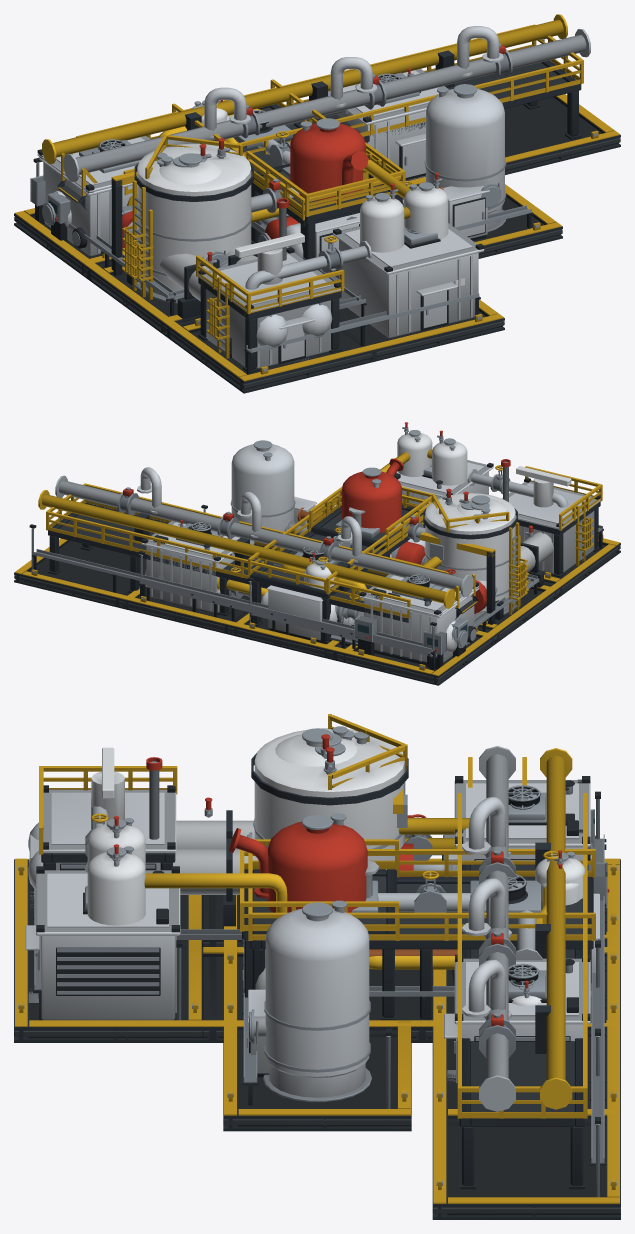
The model's file is pieces.glb.
3 renders of one model, top to bottom at view 1: azimuth 30°, elevation 25°; view 2: azimuth 150°, elevation 25°; view 3: azimuth 270°, elevation 25°, orthographic. The views are drawn at different scales.
Parts seen in each view (by area): view 1: piece_I4, piece_L, piece_J, piece_O, piece_Z, piece_T, piece_S, piece_I3, piece_V; view 2: piece_I4, piece_O, piece_J, piece_L, piece_T, piece_Z, piece_I3, piece_S, piece_V; view 3: piece_I4, piece_Z, piece_L, piece_J, piece_T, piece_O, piece_S, piece_I3, piece_V.
Boxes of the visible parts, box(x1,y1,x2,y2) form: piece_I4: box(26, 14, 620, 273); piece_L: box(15, 171, 504, 393); piece_J: box(172, 159, 496, 388); piece_O: box(14, 102, 359, 335); piece_Z: box(54, 79, 562, 258); piece_T: box(37, 100, 425, 274); piece_S: box(93, 68, 449, 329); piece_I3: box(14, 68, 425, 276); piece_V: box(43, 144, 211, 329); piece_I4: box(14, 467, 491, 683); piece_O: box(232, 488, 557, 683); piece_J: box(232, 422, 616, 658); piece_L: box(343, 460, 620, 685); piece_T: box(138, 458, 494, 661); piece_Z: box(201, 440, 475, 643); piece_I3: box(123, 520, 495, 685); piece_S: box(131, 495, 552, 655); piece_V: box(237, 491, 556, 658); piece_I4: box(432, 746, 620, 1219); piece_Z: box(223, 849, 619, 1131); piece_L: box(14, 751, 620, 1042); piece_J: box(28, 747, 620, 1042); piece_T: box(223, 776, 606, 1114); piece_O: box(223, 714, 620, 1042); piece_S: box(242, 726, 620, 1108); piece_I3: box(432, 779, 620, 1118); piece_V: box(224, 730, 617, 1030).
Bounding box in the file's own units: 3.9 × 0.9945 × 2.9.
